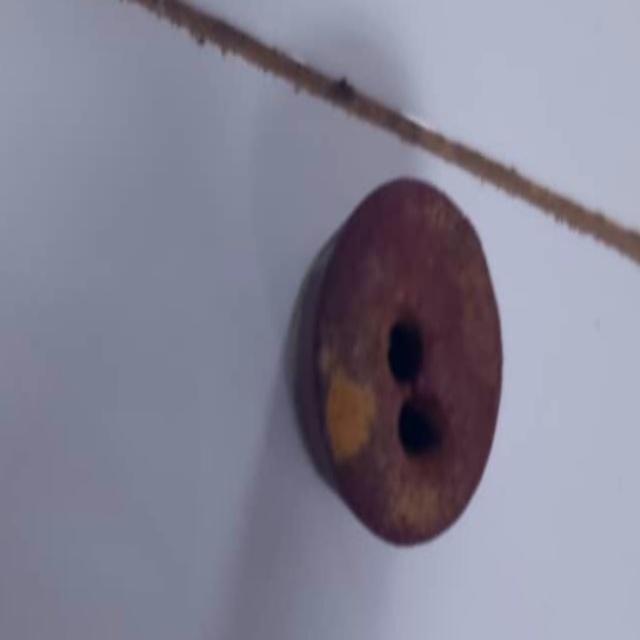Stopper: (278, 164, 518, 558)
